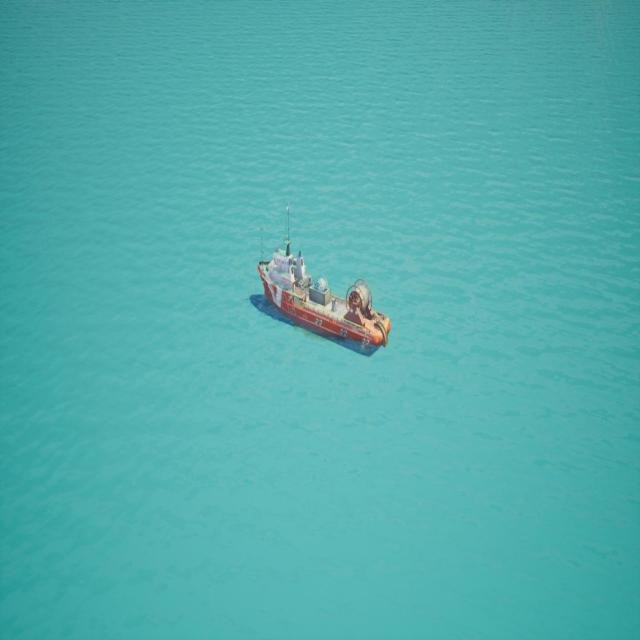tug boat: (254, 205, 393, 361)
